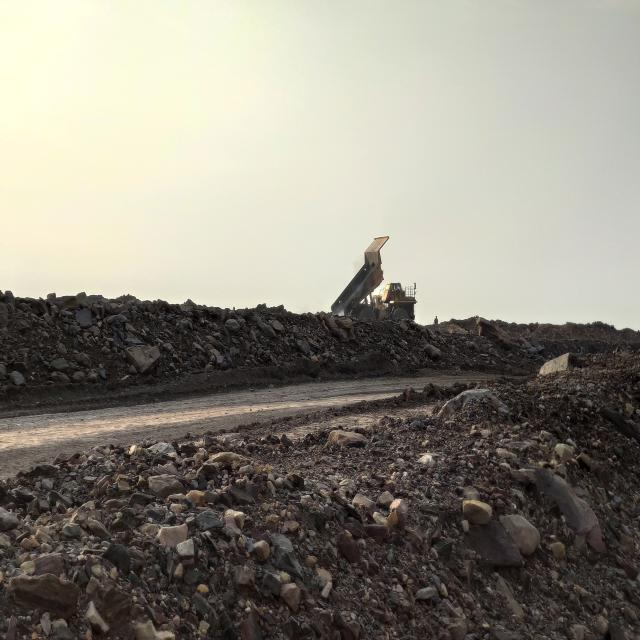dump_truck: (331, 237, 416, 320)
